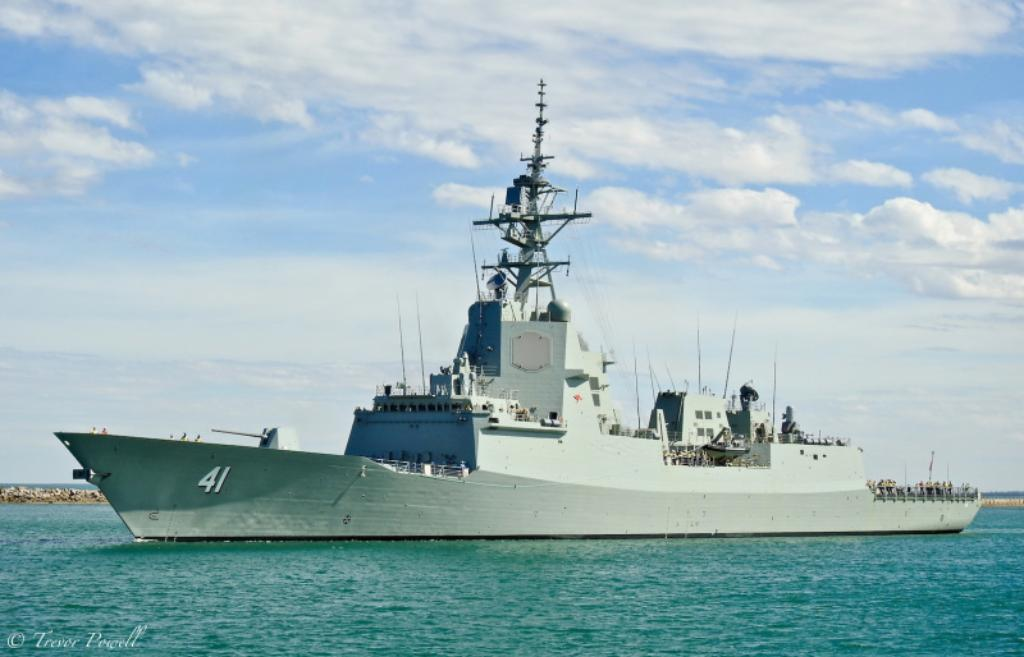Warship: (51, 75, 985, 547)
